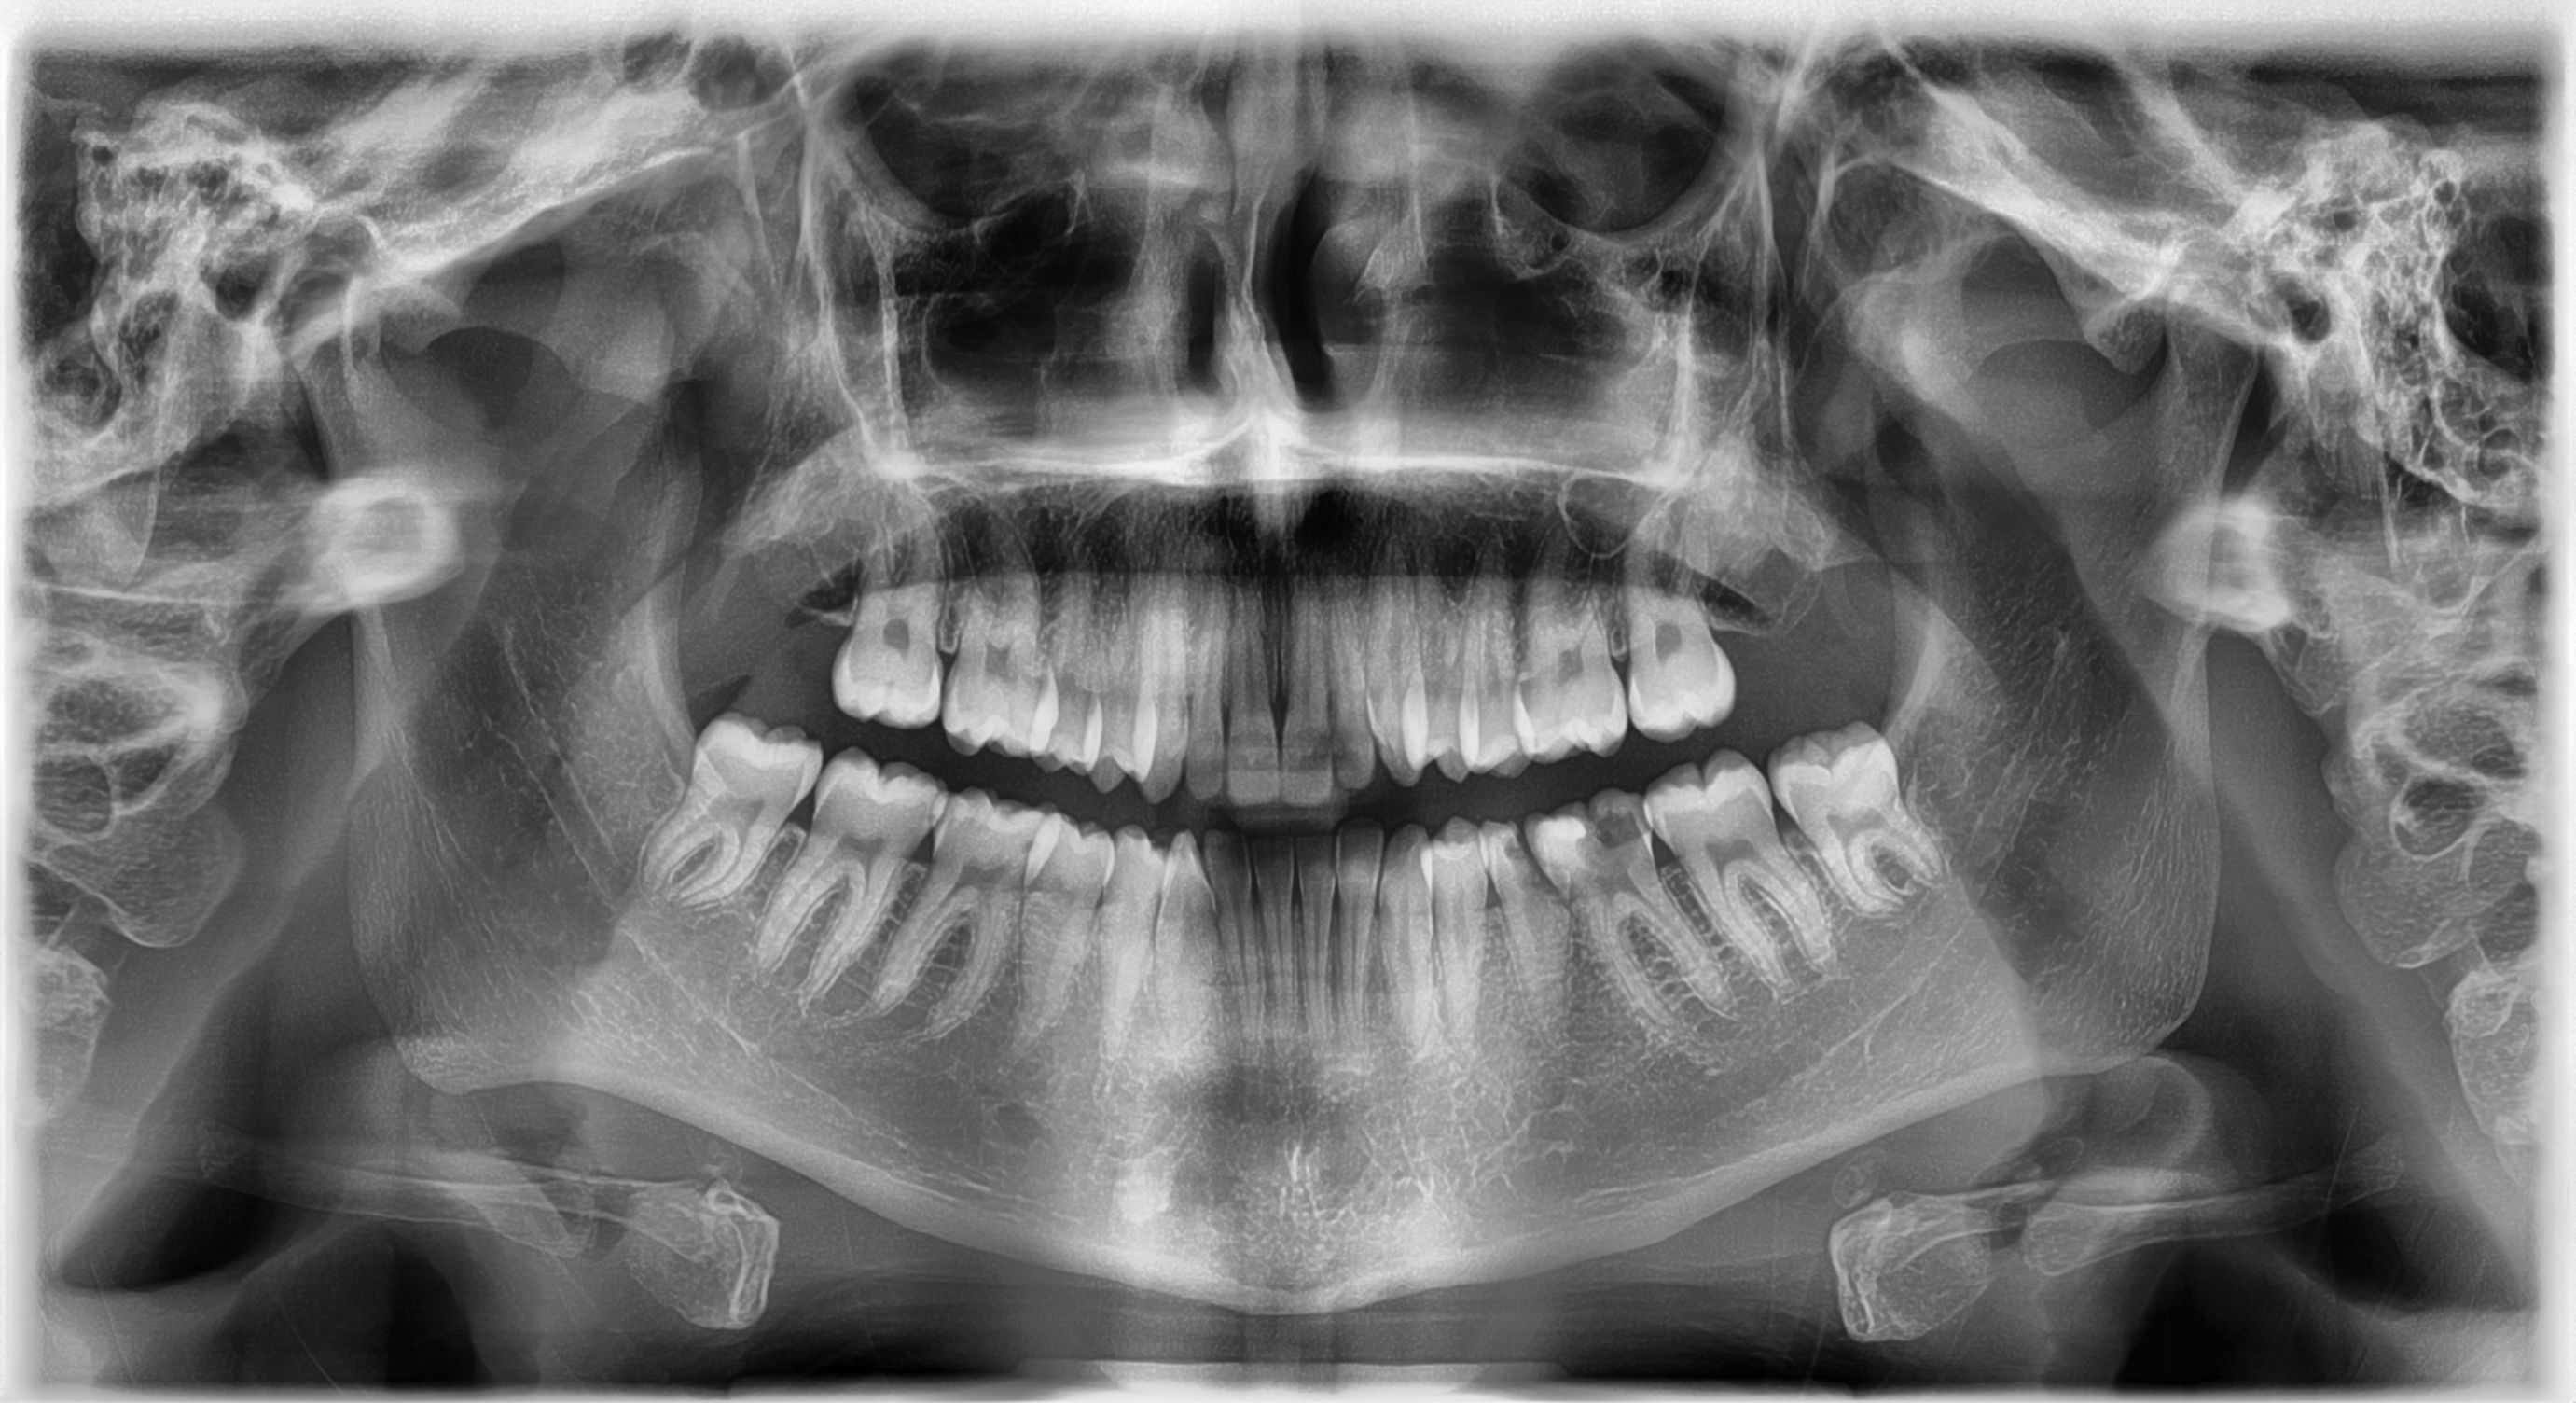apinamiento: (1001, 669, 1203, 812)
caries: (1511, 757, 1678, 930)
cordal: (1744, 705, 1992, 942), (628, 684, 834, 911)
diente_rotado: (1449, 812, 1592, 1049), (1134, 816, 1241, 1063)
